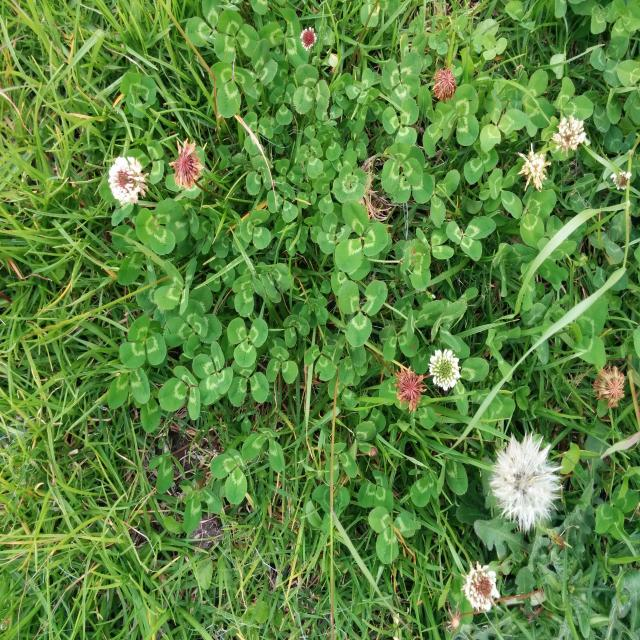Four Leaf Clover: (193, 341, 233, 404)
